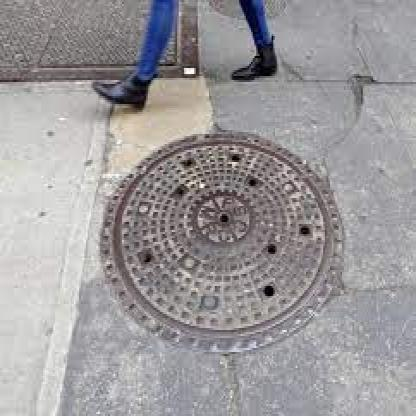closed manhole-not overflowing-: (101, 133, 346, 356)
